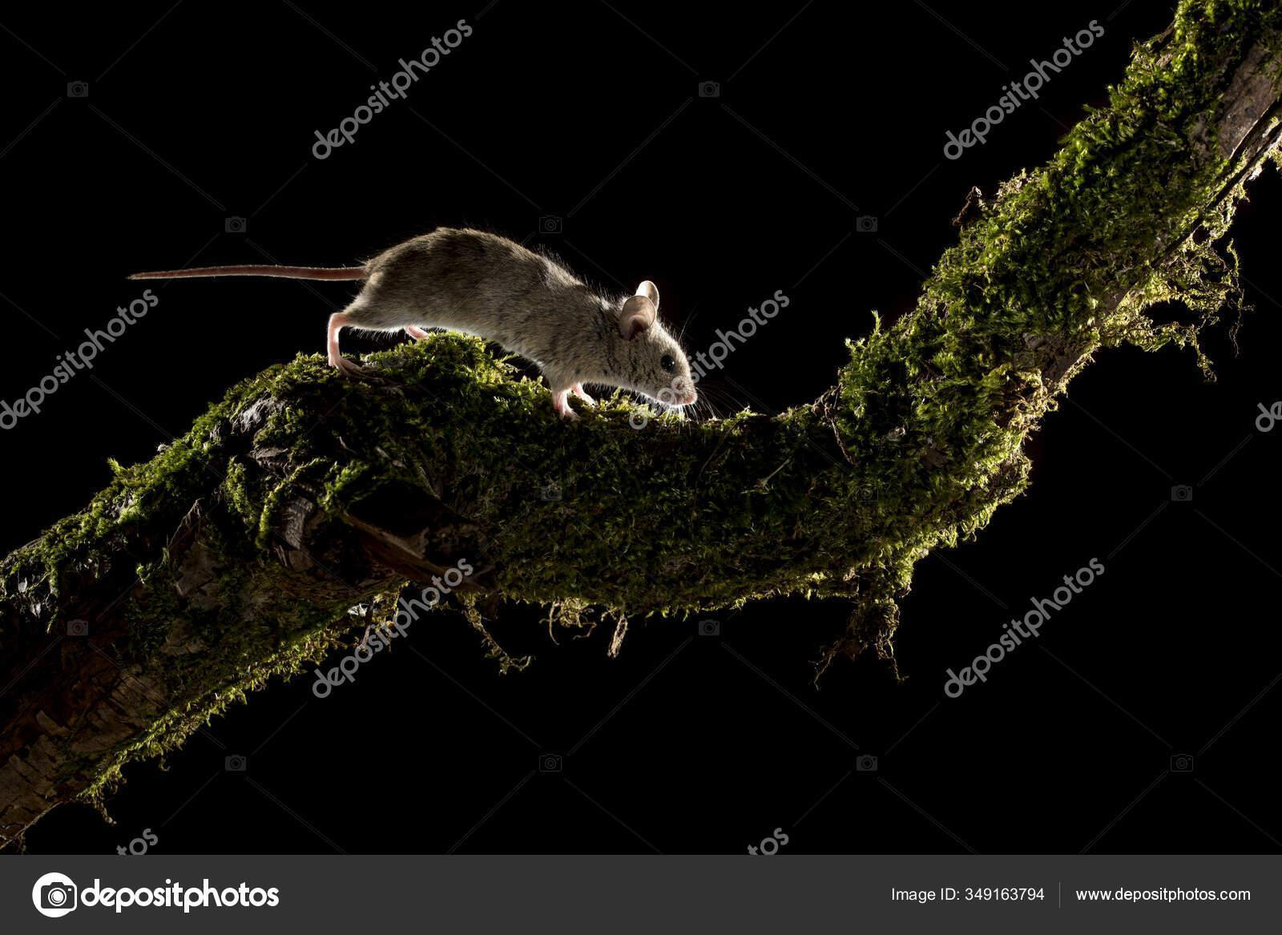rat: (130, 226, 699, 420)
